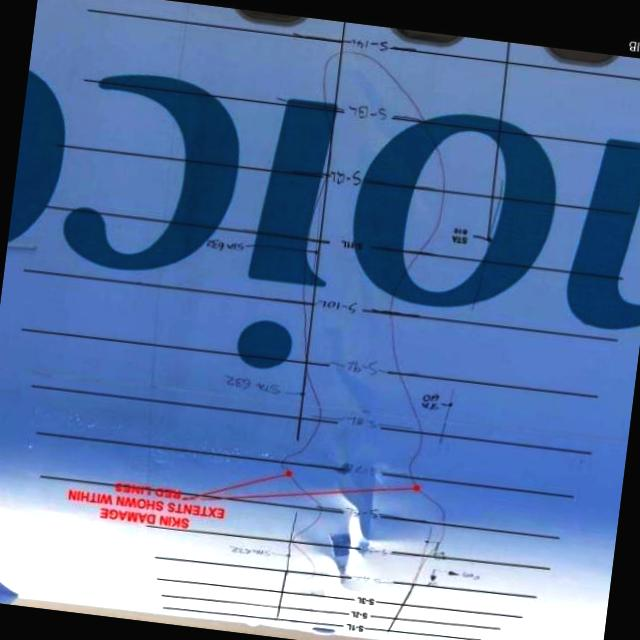dent: (282, 311, 414, 637)
